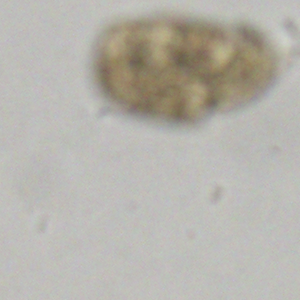Fasciola_hepatica_egg: (92, 15, 280, 123)
